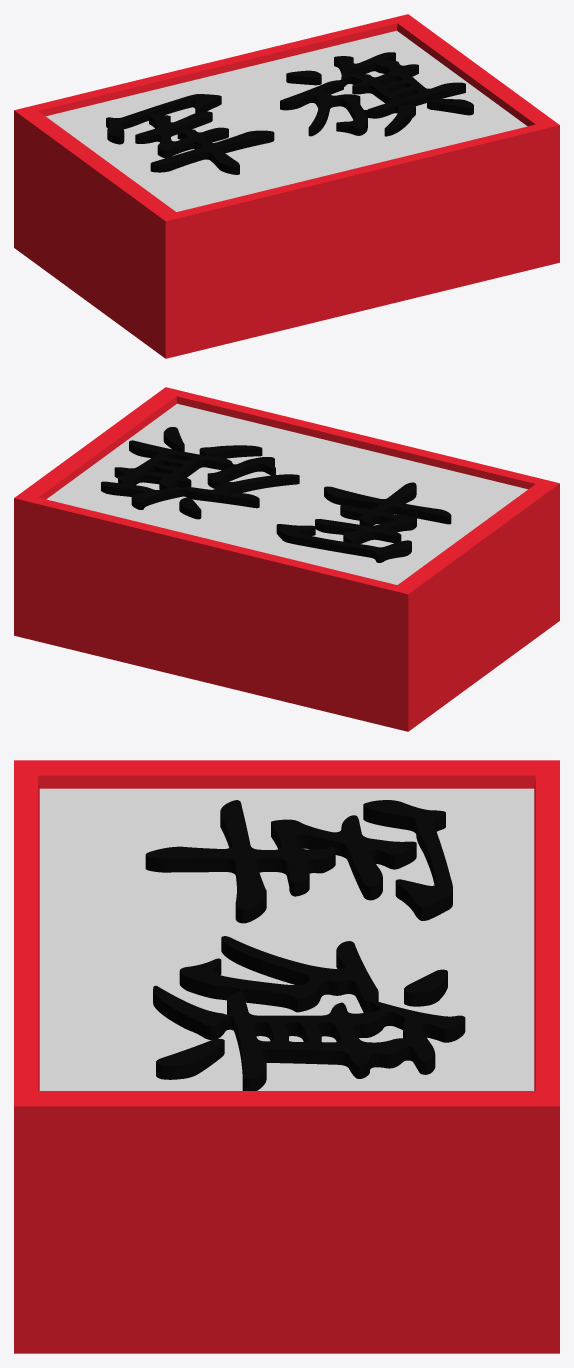
File: iii_jun_qi.fbx
The picture shows the model from 3 angles, top to bottom: view 1: azimuth 30°, elevation 25°; view 2: azimuth 150°, elevation 25°; view 3: azimuth 270°, elevation 25°; orthographic projection. The views are drawn at different scales.
Visible parts, largest first — view 1: Cube, 文本; view 2: Cube, 文本; view 3: Cube, 文本.
Part boxes in pixels (x1,y1,x2,y2): Cube: (14, 14, 559, 358); 文本: (106, 52, 473, 174); Cube: (14, 387, 559, 731); 文本: (101, 427, 451, 562); Cube: (14, 760, 559, 1353); 文本: (145, 800, 465, 1090).
Size of the model in its own units: 240 by 80.47 by 160.
